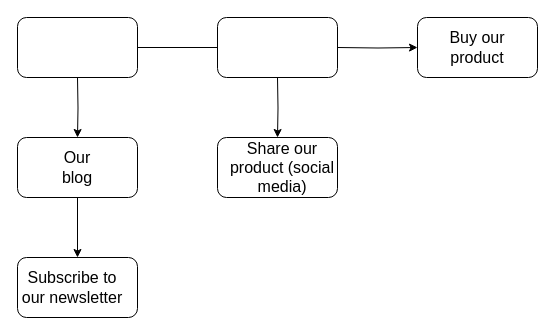
Some shapes in this 555 by 335 pixel diagram are drawn without their labels. The shapes that lost their labels are listed below. From the top down, each one's centre as x and y in pixels, then its label:
At point (77, 47): "Homepage".
At point (277, 47): "About our product".
